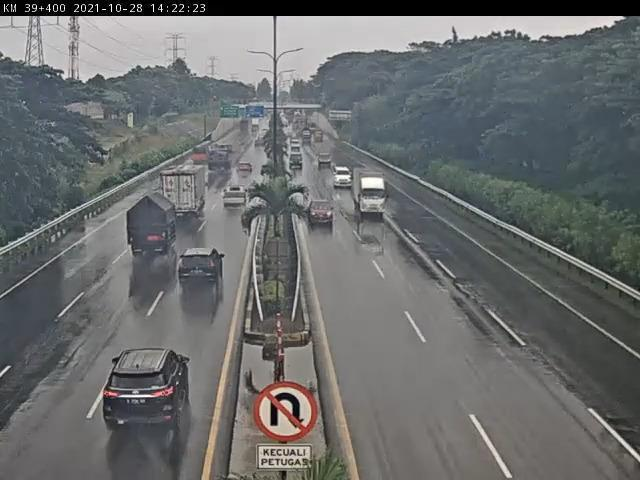car: (104, 347, 190, 436), (179, 247, 227, 287), (220, 183, 250, 212), (307, 200, 336, 227), (332, 165, 356, 189), (237, 161, 254, 175)
truck: (128, 193, 178, 258), (157, 171, 202, 224), (353, 170, 390, 218)
